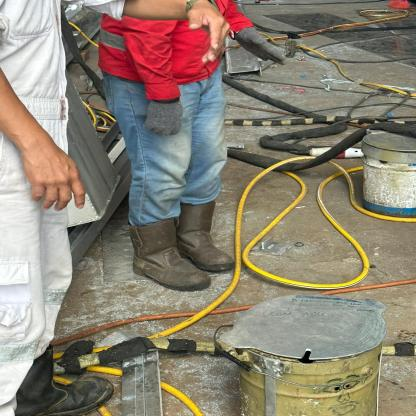bota: (127, 219, 211, 297), (177, 200, 245, 287), (23, 355, 118, 416)
